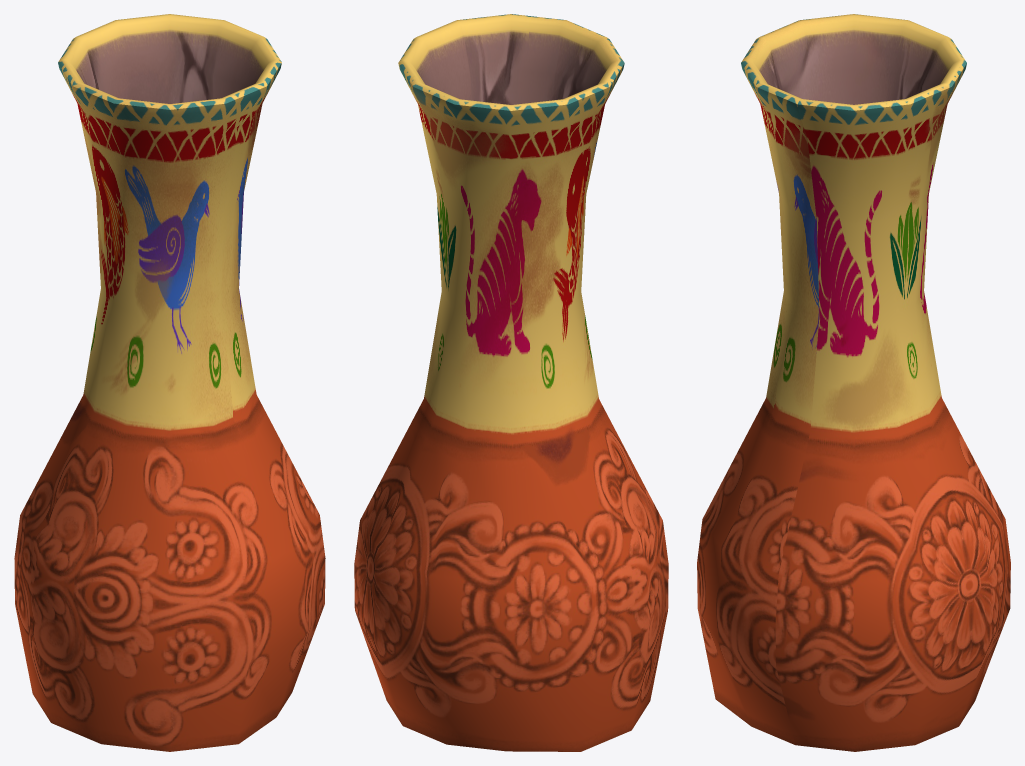
File: Market_pottery4.fbx
3 views of the same model, side by side, from view 1: azimuth 30°, elevation 25°; view 2: azimuth 150°, elevation 25°; view 3: azimuth 270°, elevation 25° (orthographic).
Parts seen in each view (by area): view 1: Market_pottery4; view 2: Market_pottery4; view 3: Market_pottery4.
Boxes of the visible parts, x1,y1,x2,y2 form: Market_pottery4: [14, 14, 325, 751]; Market_pottery4: [354, 14, 668, 751]; Market_pottery4: [697, 14, 1010, 751].
Bounding box in the file's own units: 0.4034 × 0.9061 × 0.4034.
